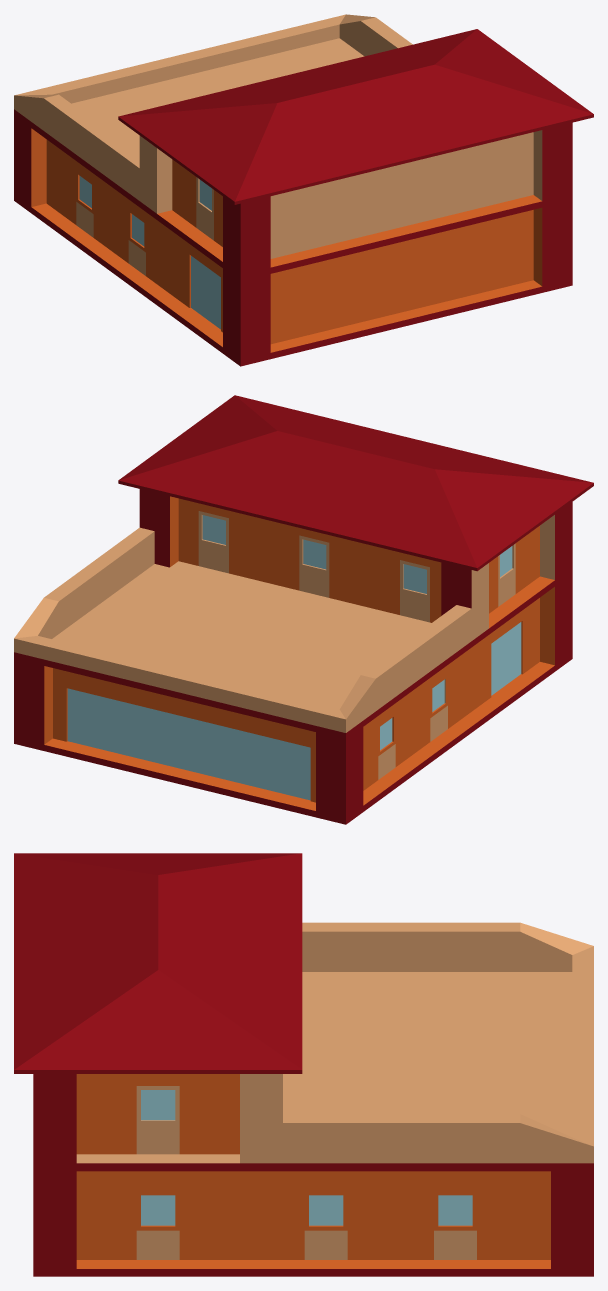
File: 01home.fbx
3 views of the same model, one above another, from view 1: azimuth 30°, elevation 25°; view 2: azimuth 150°, elevation 25°; view 3: azimuth 270°, elevation 25° (orthographic). The views are drawn at different scales.
Parts seen in each view (by area): view 1: 01home; view 2: 01home; view 3: 01home.
Part boxes in pixels (box(x1,y1,x2,y2)): 01home: box(14, 14, 593, 366); 01home: box(14, 395, 593, 824); 01home: box(14, 853, 593, 1276).
Size of the model in its own units: 1190 by 650 by 1345.
